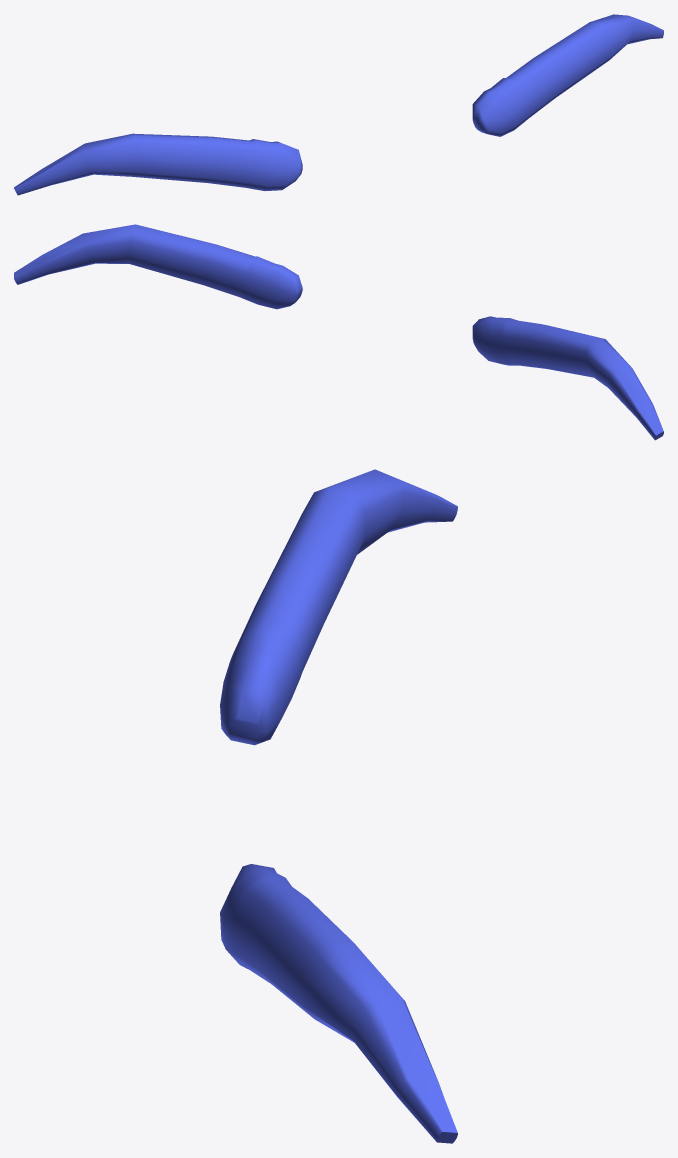
Rendered from Eyebrows_15_03.fbx.
3 views of the same model, one above another, from view 1: azimuth 30°, elevation 25°; view 2: azimuth 150°, elevation 25°; view 3: azimuth 270°, elevation 25° (orthographic). The views are drawn at different scales.
Parts seen in each view (by area): view 1: Eyebrows_15_03; view 2: Eyebrows_15_03; view 3: Eyebrows_15_03.
Boxes of the visible parts, x1,y1,x2,y2 form: Eyebrows_15_03: (14, 14, 663, 195); Eyebrows_15_03: (14, 224, 663, 440); Eyebrows_15_03: (220, 469, 457, 1143).
Bounding box in the file's own units: 19.15 × 1.93 × 3.04.
